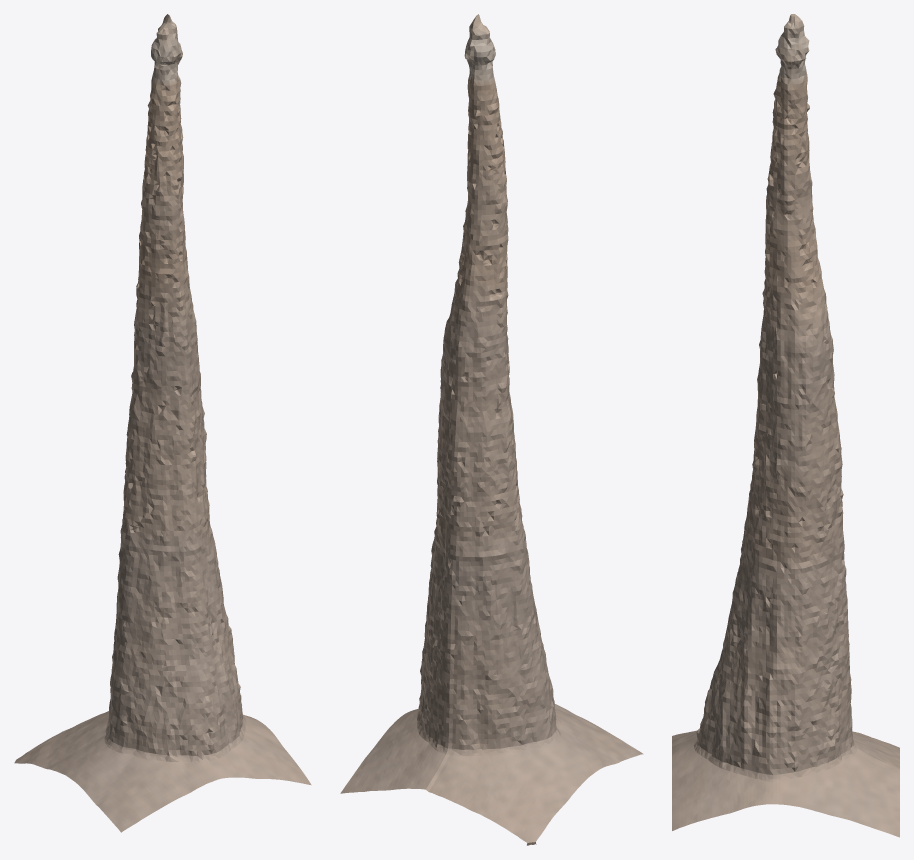
File: spire_monument.glb
The picture shows the model from 3 angles, left to right: view 1: azimuth 30°, elevation 25°; view 2: azimuth 150°, elevation 25°; view 3: azimuth 270°, elevation 25°; orthographic projection. The views are drawn at different scales.
Visible parts, largest first — view 1: geometry_0; view 2: geometry_0; view 3: geometry_0.
Boxes of the visible parts, x1,y1,x2,y2 form: geometry_0: (14,14,311,832); geometry_0: (340,14,643,845); geometry_0: (672,14,899,837).
Size of the model in its own units: 12.5 by 47.78 by 12.5.
